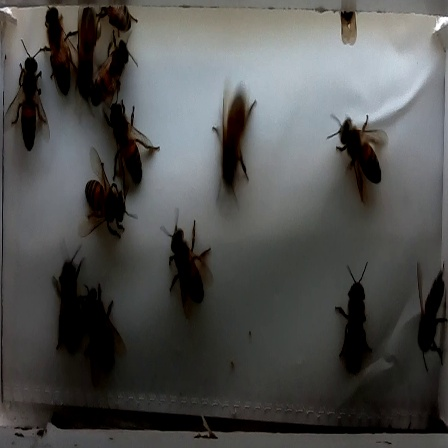bee: (147, 212, 223, 312), (203, 88, 265, 203), (90, 94, 162, 191), (319, 109, 395, 200), (328, 261, 382, 376), (71, 167, 143, 243), (7, 37, 51, 157), (76, 286, 129, 384), (404, 256, 446, 374), (42, 255, 89, 359), (87, 34, 149, 111), (33, 4, 79, 102), (67, 3, 102, 99)
